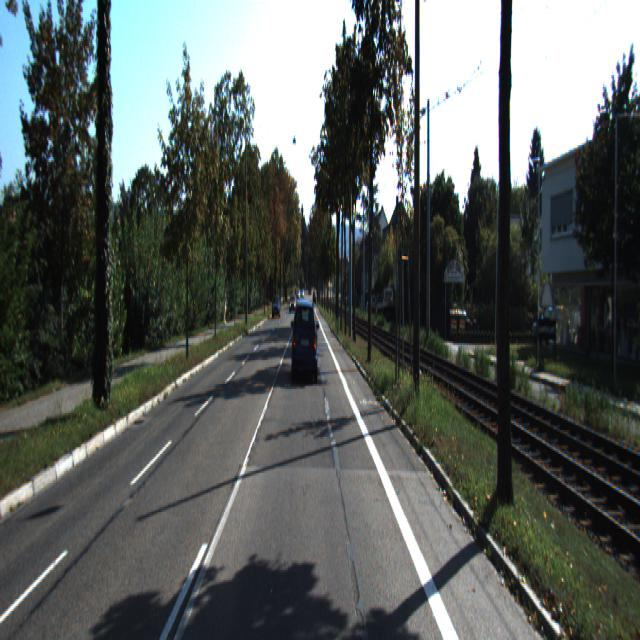Car: (291, 296, 319, 385), (272, 296, 281, 318)
